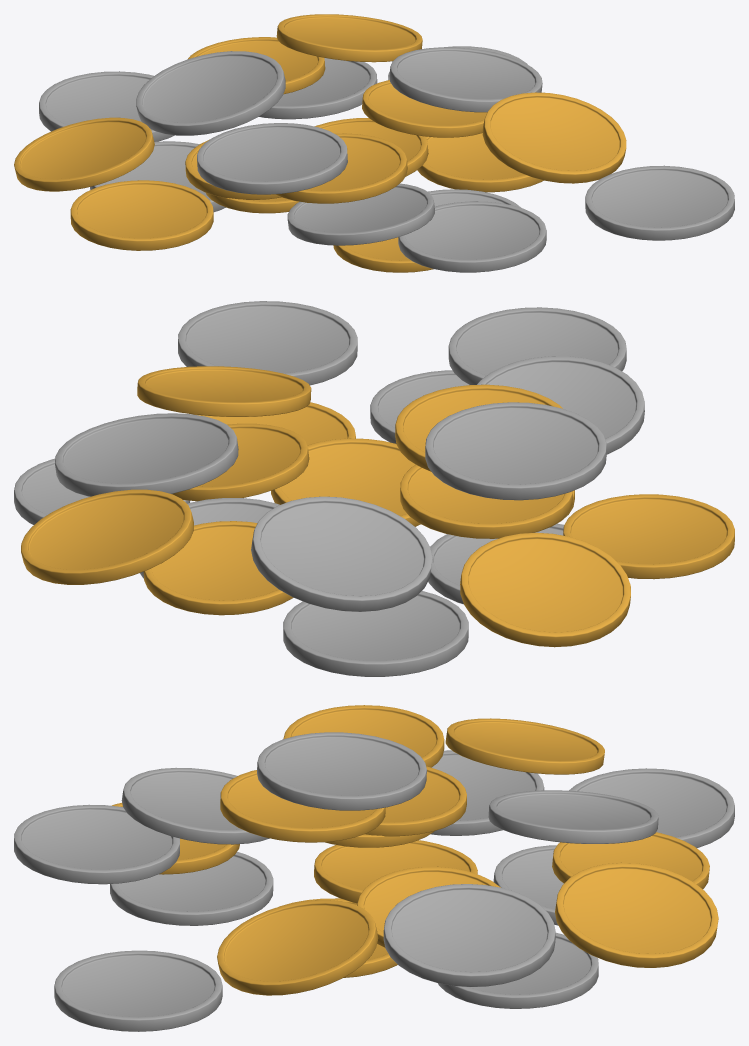
File: Adm_Coin.glb
3 views of the same model, one above another, from view 1: azimuth 30°, elevation 25°; view 2: azimuth 150°, elevation 25°; view 3: azimuth 270°, elevation 25° (orthographic). The views are drawn at different scales.
Parts seen in each view (by area): view 1: Plane.863, Plane.1704, Plane.1360, Plane.621, Plane.1238, Plane.940, Plane.1778, Plane.518, Plane.692, Plane.676, Plane.1488, Plane.1479 (+10 smaller); view 2: Plane.1704, Plane.1778, Plane.621, Plane.676, Plane.518, Plane.1488, Plane.1360, Plane.1238, Plane.940, Plane.776, Plane.692, Plane.863 (+9 smaller); view 3: Plane.518, Plane.676, Plane.863, Plane.1360, Plane.621, Plane.940, Plane.1296, Plane.1704, Plane.692, Plane.1488, Plane.1778, Plane.1479 (+11 smaller).
Part boxes in pixels (<box>): Plane.863: <box>482,92,626,183</box>; Plane.1704: <box>136,51,285,135</box>; Plane.1360: <box>585,165,734,240</box>; Plane.621: <box>197,123,347,194</box>; Plane.1238: <box>70,180,213,250</box>; Plane.940: <box>398,201,546,272</box>; Plane.1778: <box>14,117,154,191</box>; Plane.518: <box>389,47,542,112</box>; Plane.692: <box>287,183,434,245</box>; Plane.676: <box>276,14,422,62</box>; Plane.1488: <box>39,71,174,141</box>; Plane.1479: <box>275,133,407,203</box>; Plane.1704: <box>251,496,432,611</box>; Plane.1778: <box>460,532,630,647</box>; Plane.621: <box>425,402,606,500</box>; Plane.676: <box>21,489,193,584</box>; Plane.518: <box>55,413,238,496</box>; Plane.1488: <box>283,591,468,676</box>; Plane.1360: <box>178,301,357,385</box>; Plane.1238: <box>563,494,734,579</box>; Plane.940: <box>448,307,626,384</box>; Plane.776: <box>143,521,293,615</box>; Plane.692: <box>477,356,644,454</box>; Plane.863: <box>137,366,311,416</box>; Plane.518: <box>383,884,555,986</box>; Plane.676: <box>555,862,718,967</box>; Plane.863: <box>217,900,378,995</box>; Plane.1360: <box>54,950,222,1031</box>; Plane.621: <box>257,732,426,810</box>; Plane.940: <box>14,804,179,884</box>; Plane.1296: <box>110,852,273,925</box>; Plane.1704: <box>488,790,658,843</box>; Plane.692: <box>121,767,269,844</box>; Plane.1488: <box>569,768,734,847</box>; Plane.1778: <box>445,718,604,774</box>; Plane.1479: <box>220,770,385,842</box>.
Bounding box in the file's own units: 0.1826 × 0.0212 × 0.1864.
